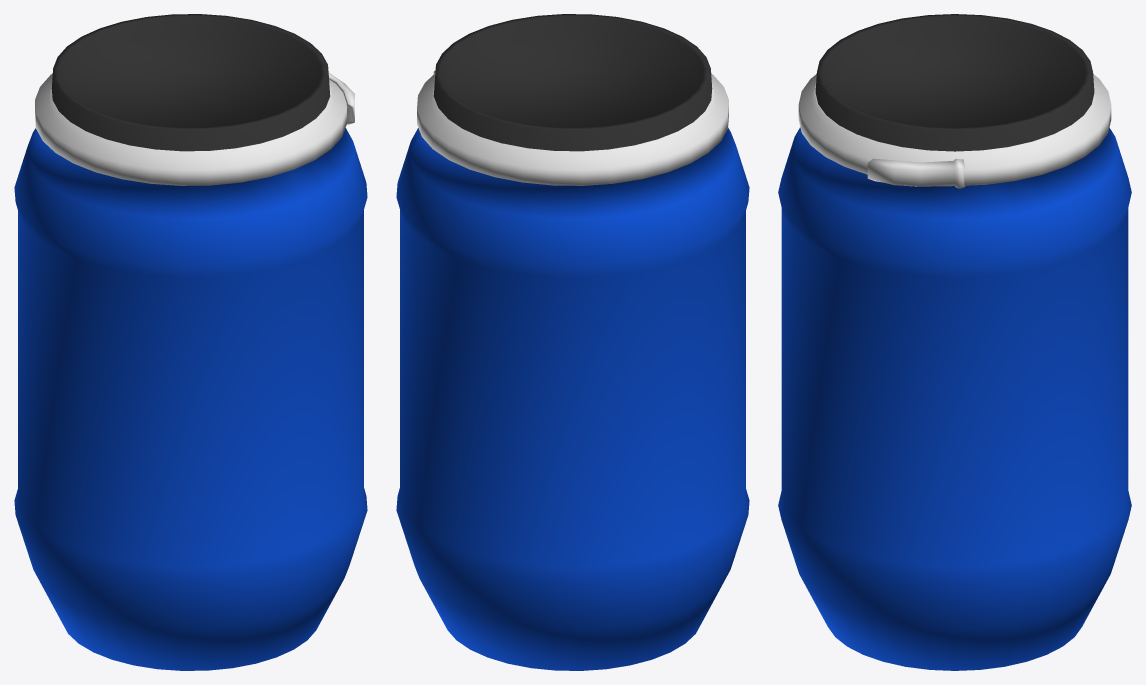
File: barrel.fbx
3 renders of one model, left to right at view 1: azimuth 30°, elevation 25°; view 2: azimuth 150°, elevation 25°; view 3: azimuth 270°, elevation 25°, orthographic.
Visible parts, largest first — view 1: Cylinder, Cylinder.001, Cylinder.002; view 2: Cylinder, Cylinder.001, Cylinder.002; view 3: Cylinder, Cylinder.001, Cylinder.002, Cylinder.003.
Boxes of the visible parts, left/top/right/bottom form: Cylinder: left=14, top=128, right=367, bottom=670; Cylinder.001: left=51, top=14, right=330, bottom=151; Cylinder.002: left=35, top=73, right=346, bottom=185; Cylinder: left=396, top=127, right=749, bottom=670; Cylinder.001: left=433, top=14, right=712, bottom=151; Cylinder.002: left=417, top=73, right=728, bottom=185; Cylinder: left=778, top=127, right=1131, bottom=670; Cylinder.001: left=815, top=14, right=1094, bottom=151; Cylinder.002: left=798, top=74, right=1111, bottom=185; Cylinder.003: left=867, top=158, right=965, bottom=188.
Size of the model in its own units: 189 by 321 by 189.
